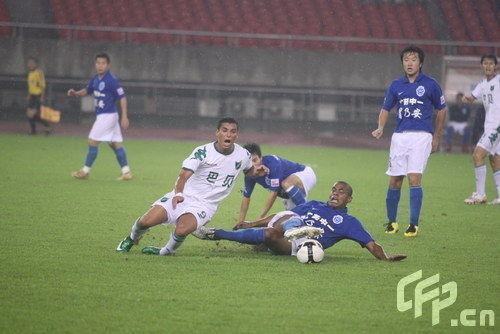Fall-Detected: (231, 140, 325, 219)
